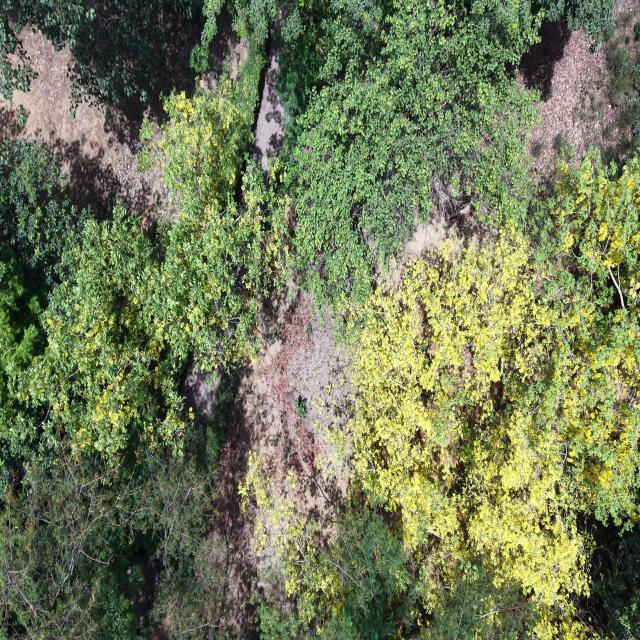DRY_AREA: (210, 287, 347, 638), (212, 287, 349, 638), (210, 288, 347, 638), (212, 287, 348, 638), (212, 290, 348, 638), (210, 291, 346, 637), (213, 288, 347, 638), (217, 292, 347, 637), (0, 22, 199, 228), (0, 27, 199, 228), (0, 17, 199, 218), (0, 27, 199, 223), (0, 24, 199, 218), (2, 27, 161, 217), (0, 28, 162, 211), (3, 27, 130, 212), (518, 0, 639, 181), (254, 288, 347, 521), (519, 0, 639, 178), (518, 21, 619, 180), (519, 22, 616, 175), (209, 374, 256, 638), (379, 199, 492, 285), (389, 199, 489, 284), (378, 208, 475, 286), (604, 0, 639, 167), (519, 21, 588, 102), (251, 24, 284, 170), (250, 27, 283, 170), (200, 11, 248, 92), (201, 10, 248, 92), (607, 0, 639, 111), (180, 355, 222, 426), (405, 216, 449, 258)
VEGETATION_TREE: (0, 0, 639, 639), (0, 42, 284, 638), (348, 152, 639, 638), (352, 232, 639, 637), (0, 142, 226, 638), (22, 51, 284, 458), (279, 0, 612, 304), (30, 93, 283, 456), (280, 0, 542, 303), (139, 38, 287, 370), (0, 428, 225, 639), (28, 209, 184, 458), (0, 141, 82, 491), (0, 0, 224, 109), (257, 503, 418, 639), (0, 0, 202, 105), (529, 149, 639, 335), (0, 139, 82, 288), (592, 527, 639, 639), (606, 13, 639, 166), (540, 0, 615, 45), (0, 13, 35, 102)
